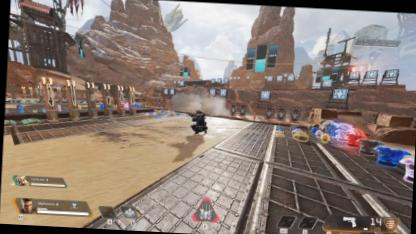Target: (190, 108, 209, 135)
